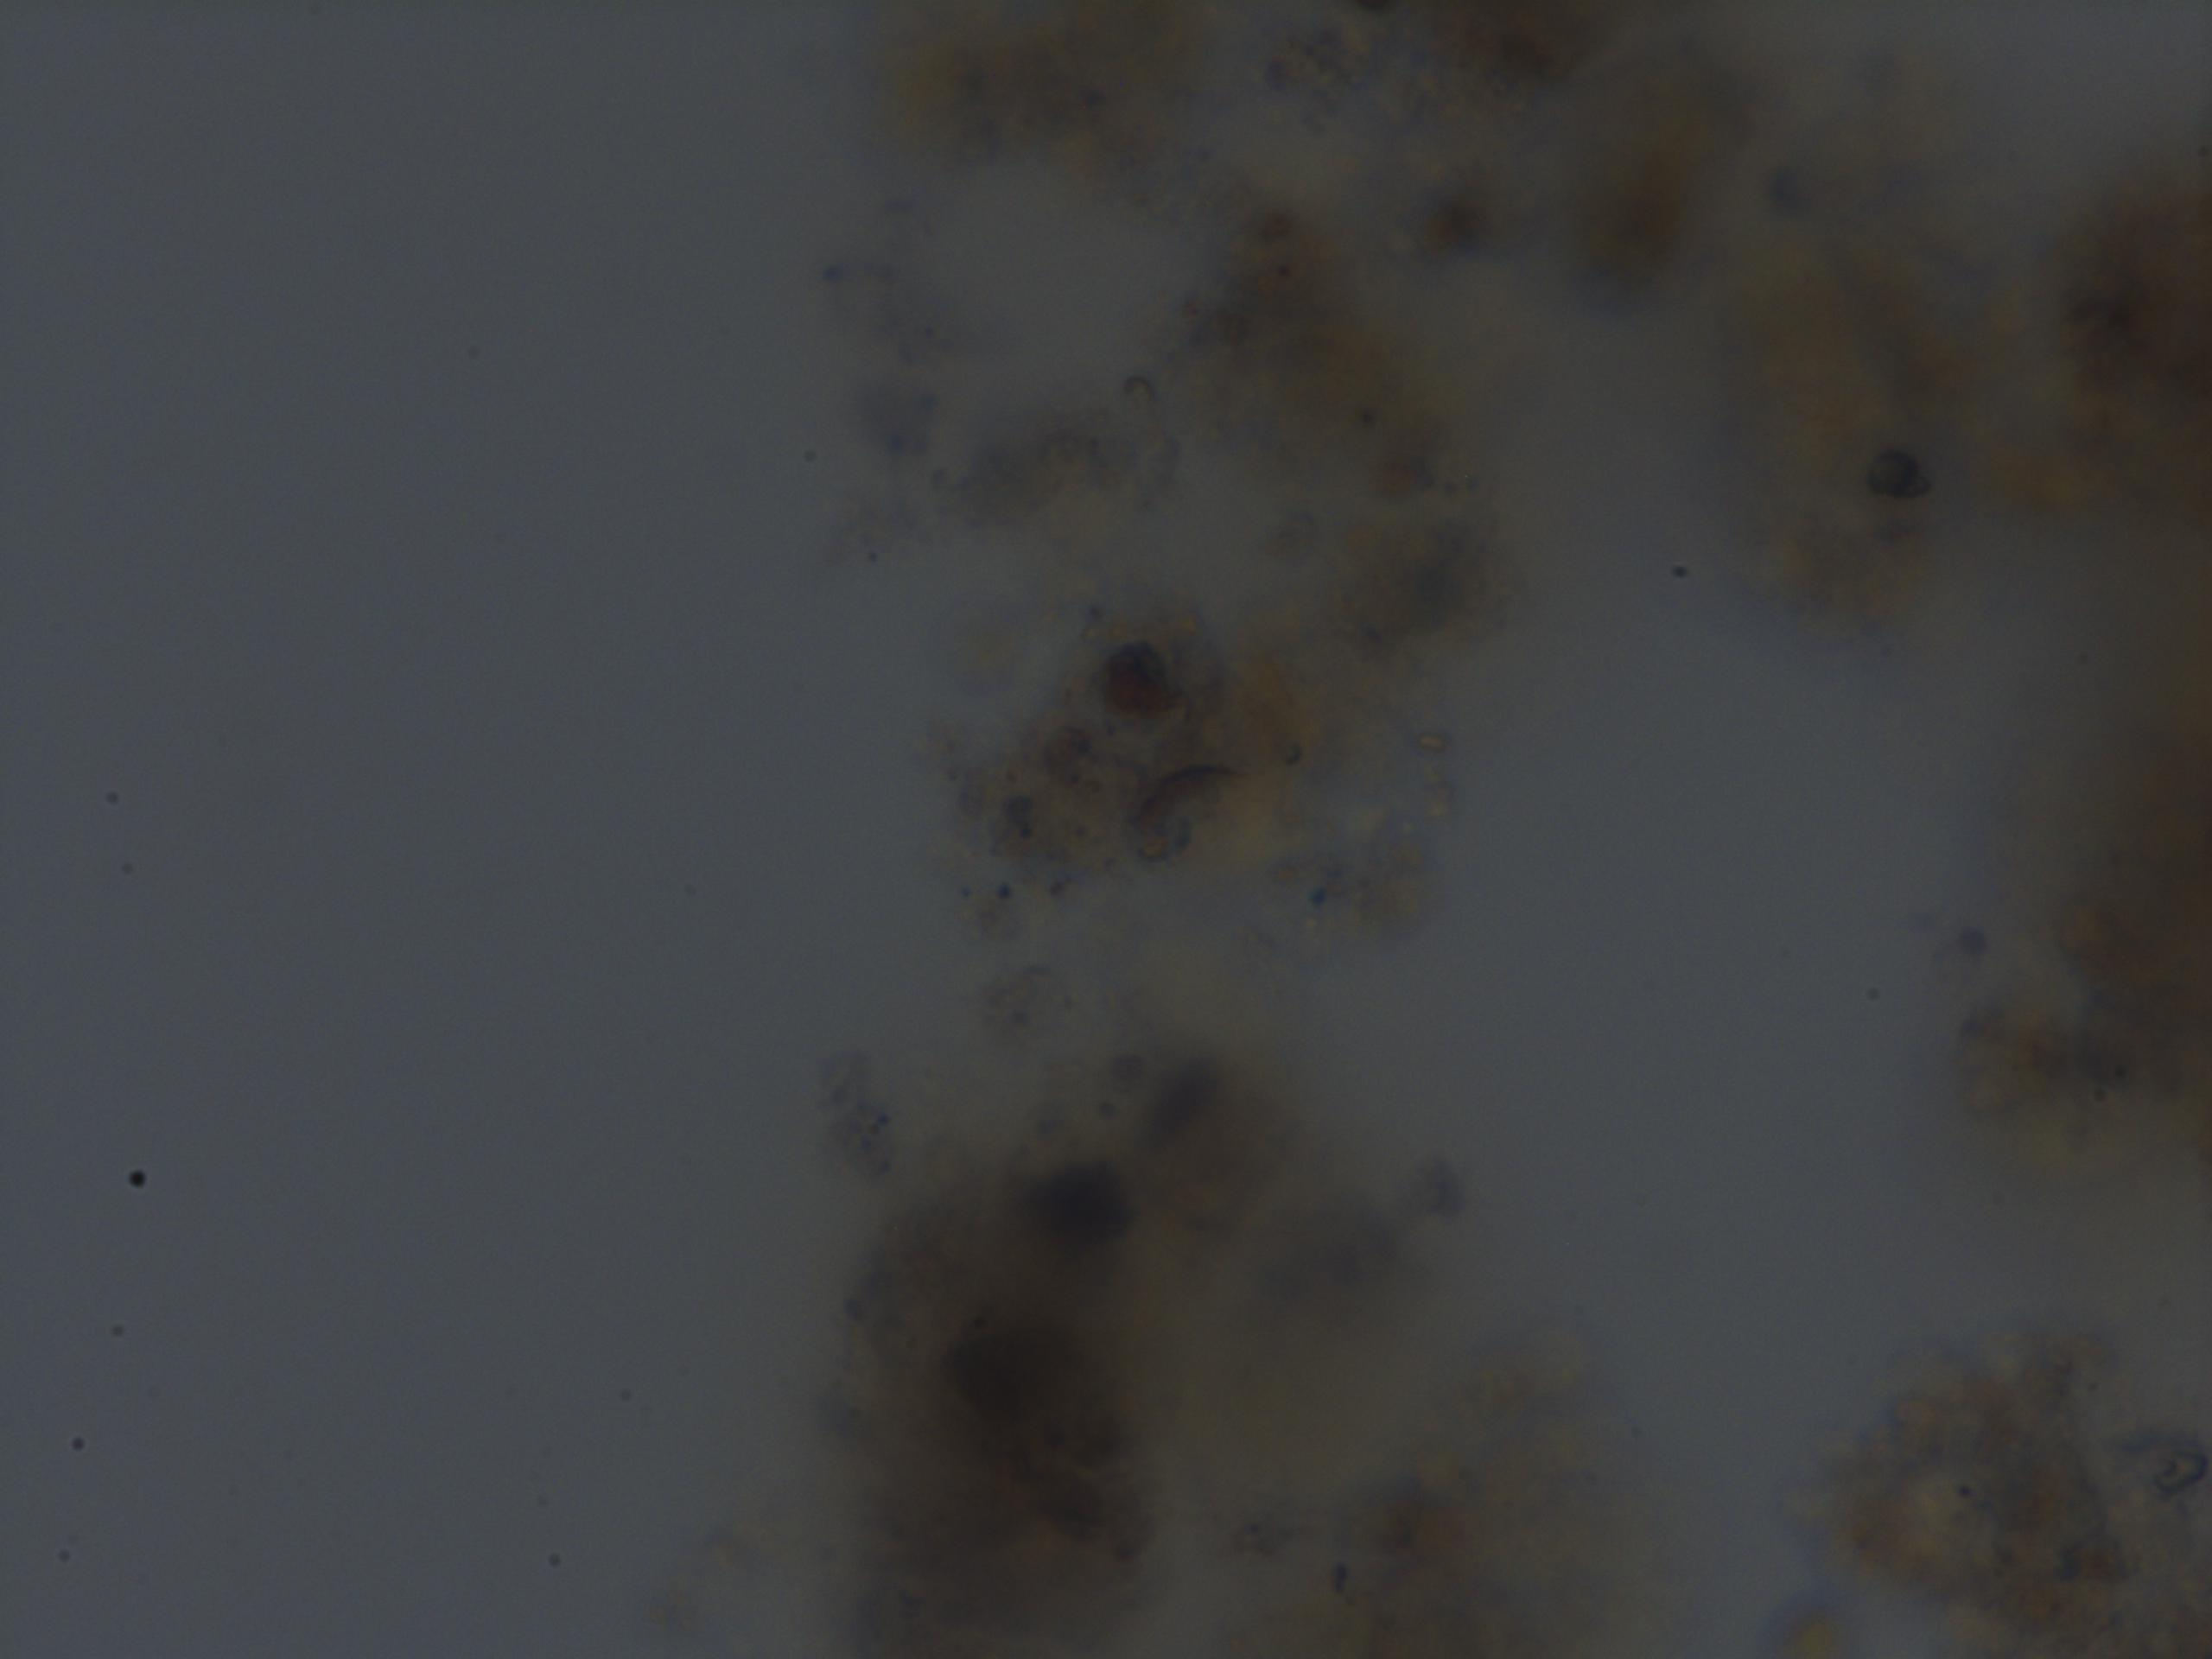open_floc: (791, 0, 1482, 936)
